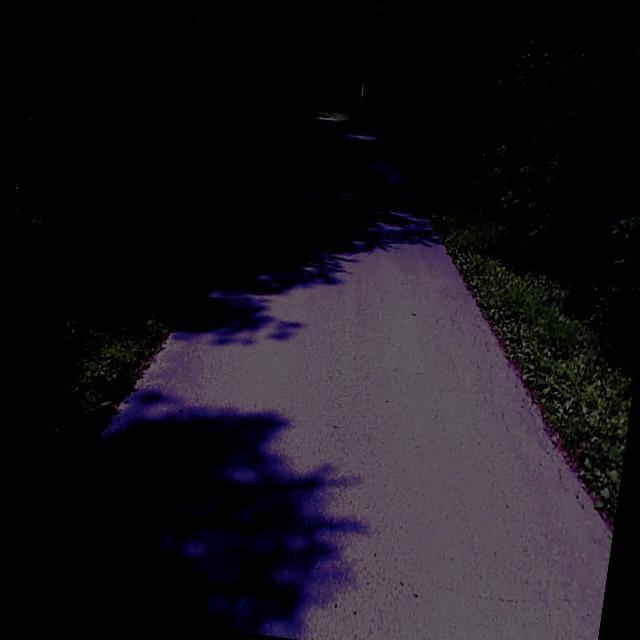road: (0, 118, 612, 640)
